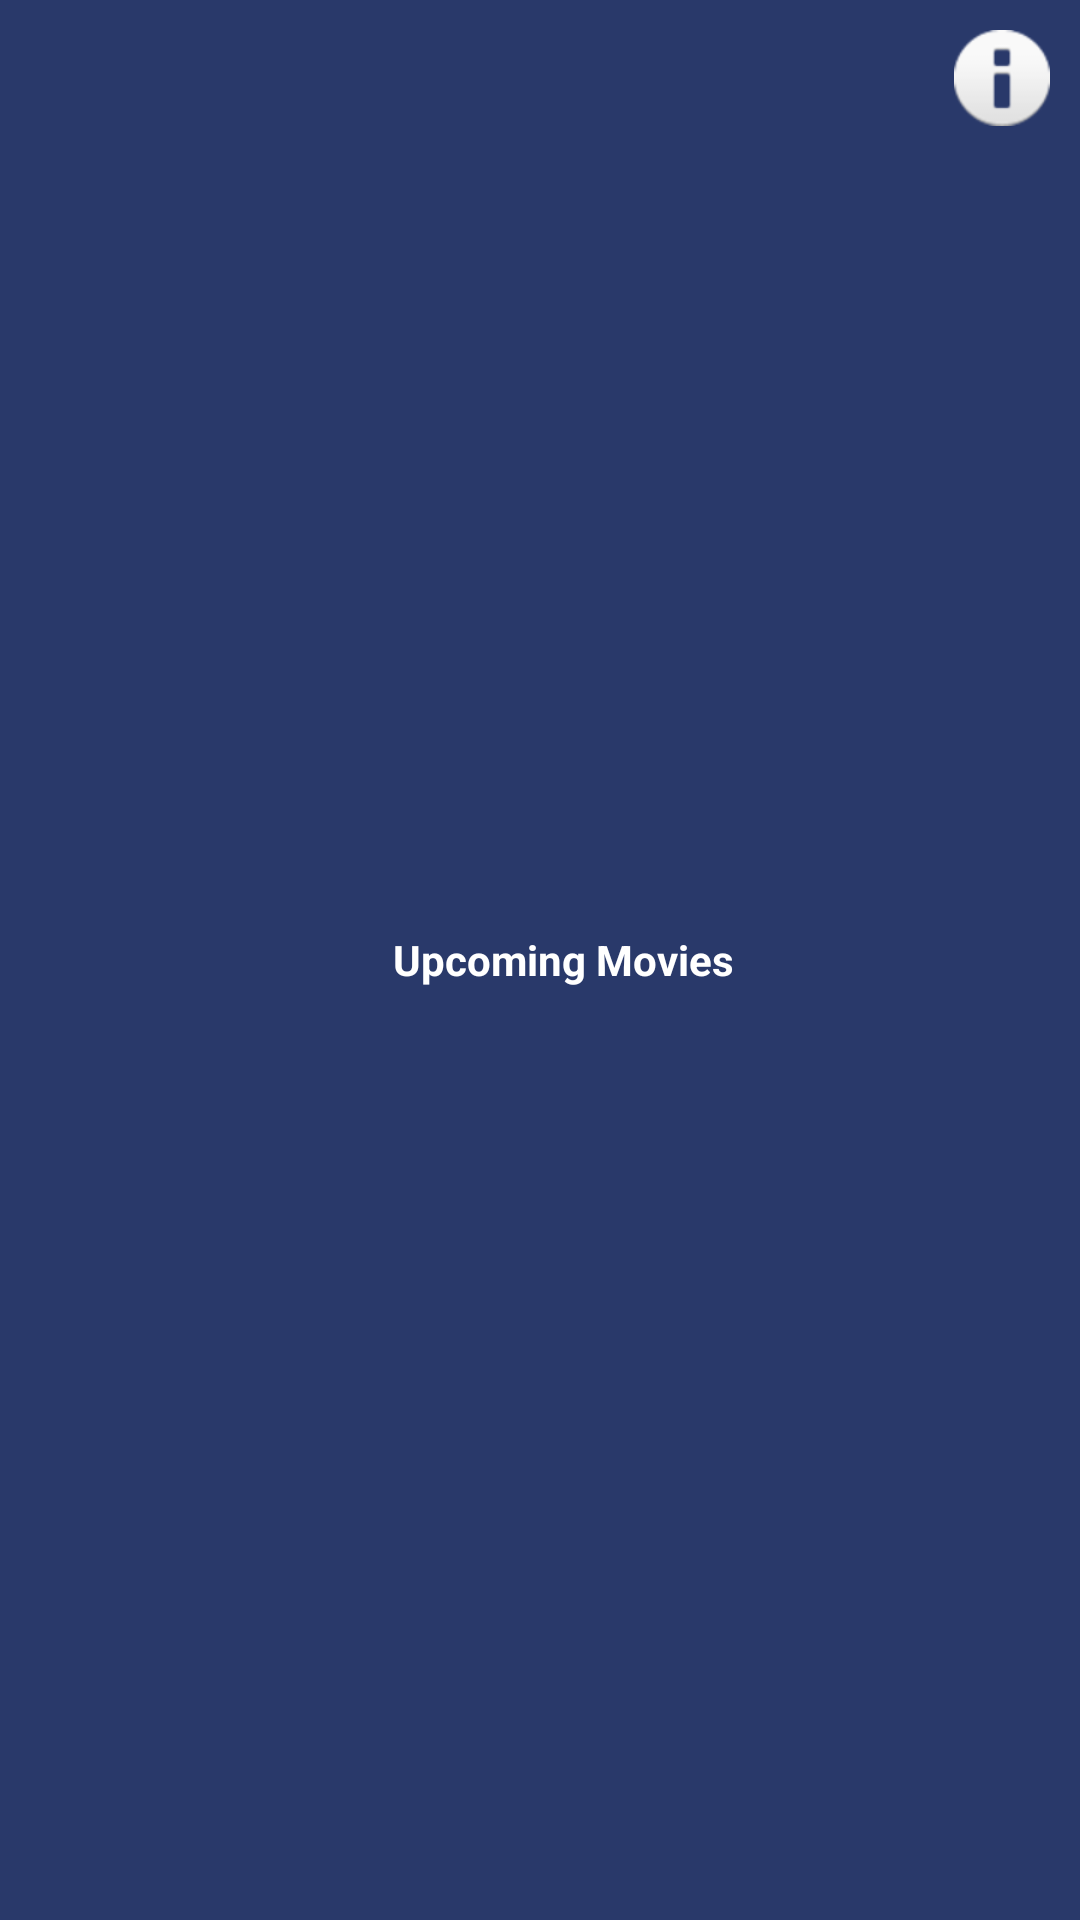

Screen size 1080px×1920px. Icon name, then its box in pixels as BBox(x1, y1, x2, y2):
info: BBox(954, 30, 1050, 126)
